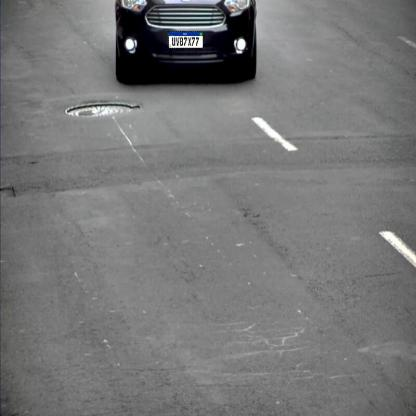PlacaM: (168, 31, 204, 49)
